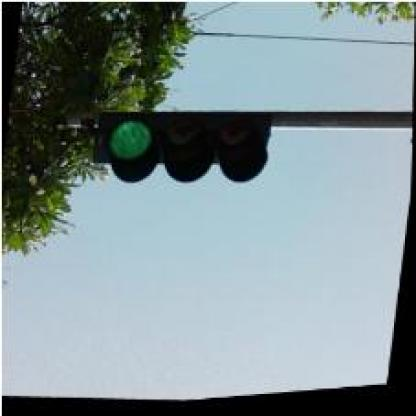green: (90, 94, 277, 199)
